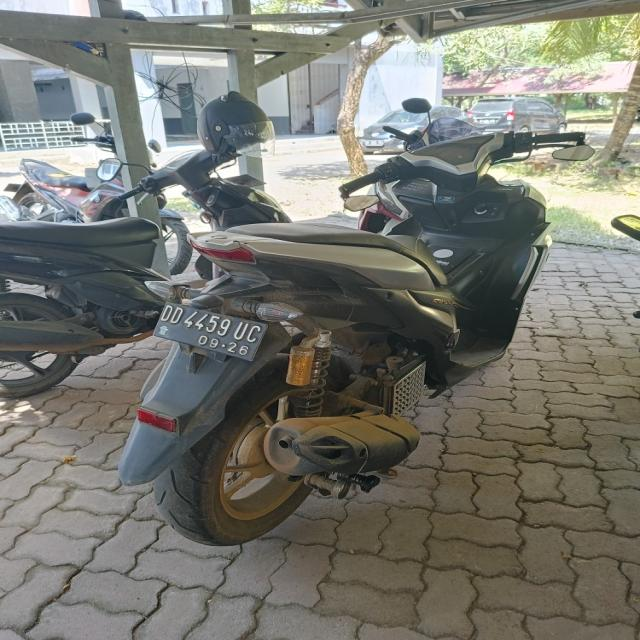plates: (154, 294, 268, 362)
